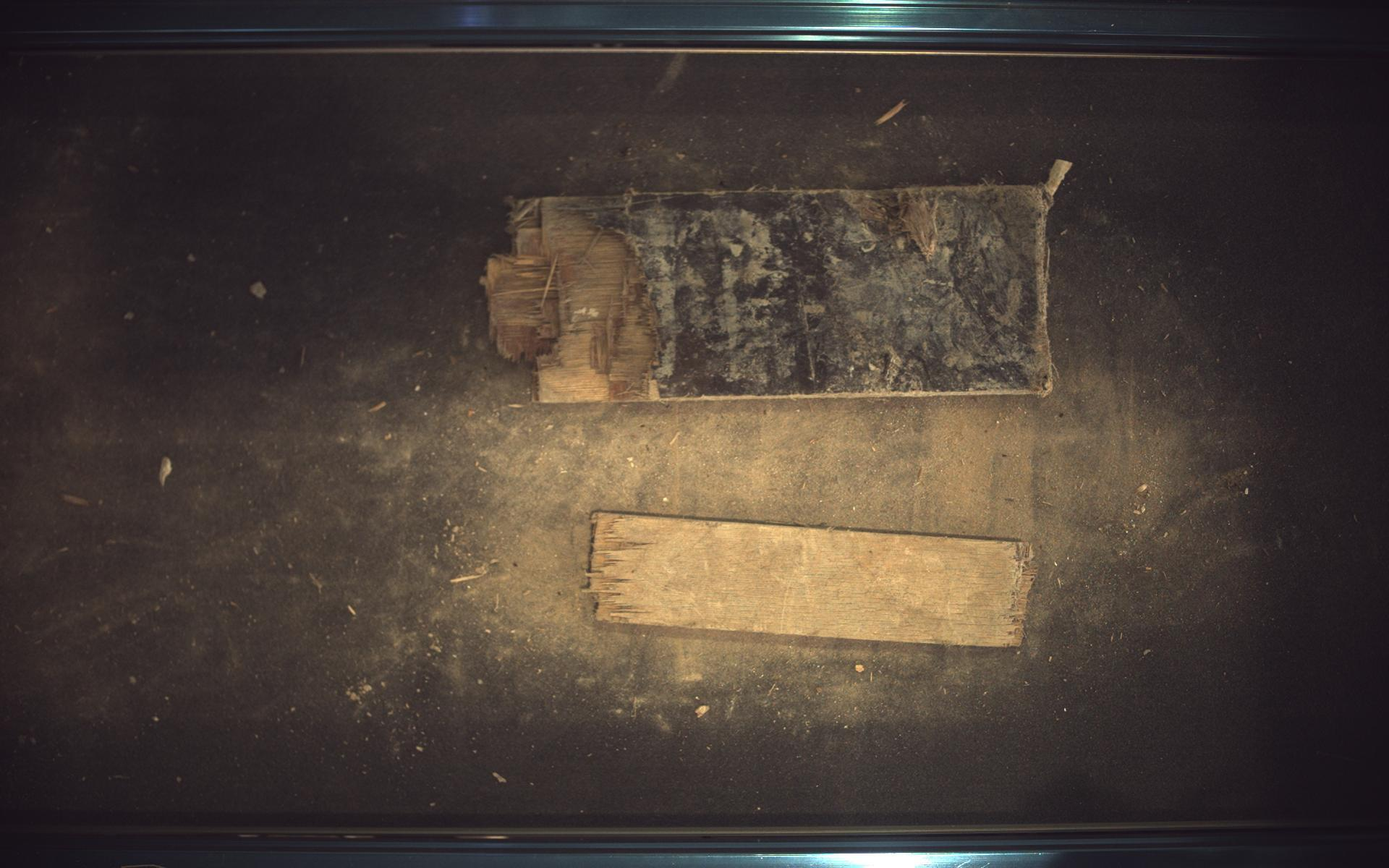wood: (483, 160, 1072, 403), (590, 512, 1037, 648)
